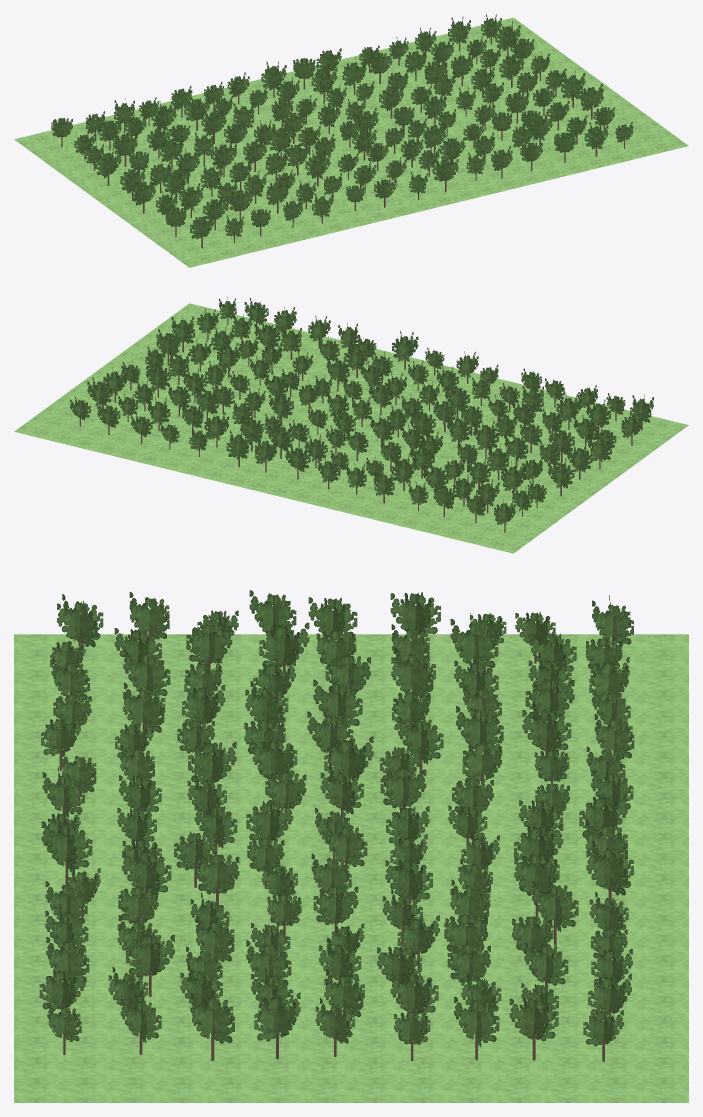
File: orchard-east.glb
3 views of the same model, one above another, from view 1: azimuth 30°, elevation 25°; view 2: azimuth 150°, elevation 25°; view 3: azimuth 270°, elevation 25° (orthographic). The views are drawn at different scales.
Visible parts, largest first — view 1: orchard-east, orchard-east-trees; view 2: orchard-east, orchard-east-trees; view 3: orchard-east, orchard-east-trees.
Boxes of the visible parts, x1=… form: orchard-east: x1=14, y1=17, x2=688, y2=267; orchard-east-trees: x1=51, y1=14, x2=633, y2=248; orchard-east: x1=14, y1=303, x2=688, y2=553; orchard-east-trees: x1=70, y1=297, x2=653, y2=532; orchard-east: x1=14, y1=634, x2=688, y2=1102; orchard-east-trees: x1=39, y1=590, x2=634, y2=1061.
Bounding box in the file's own units: 115 × 7.4 × 70.
Materials: 3 (2 with a texture image).
